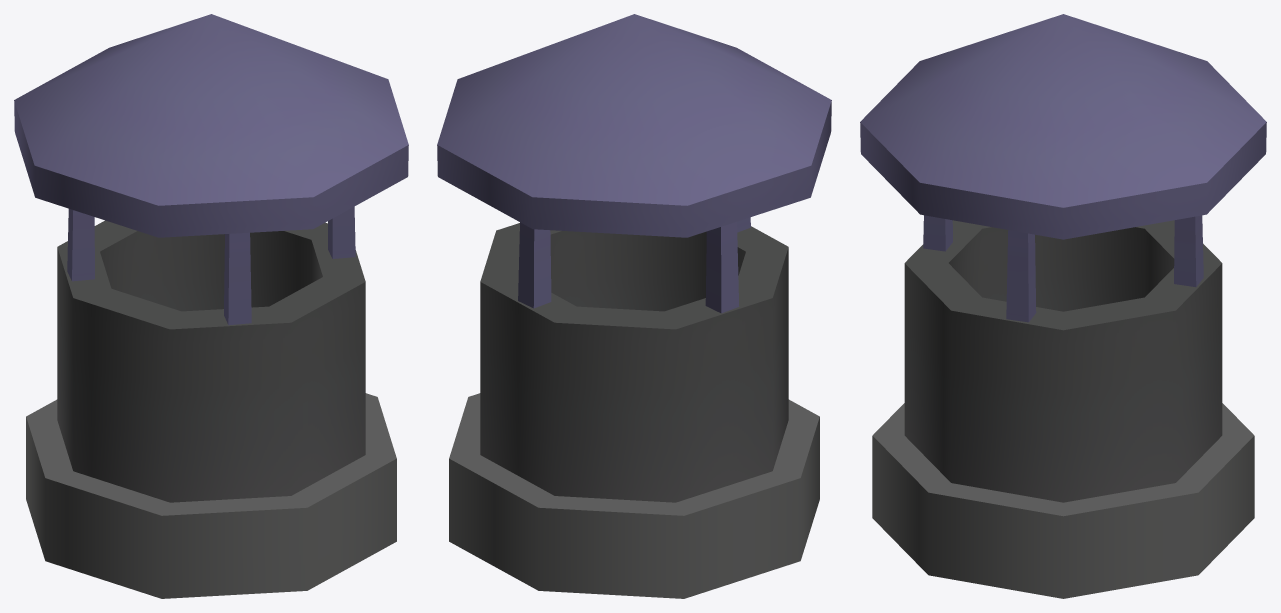
The model's file is Chimney_1_B_5.glb.
3 views of the same model, side by side, from view 1: azimuth 30°, elevation 25°; view 2: azimuth 150°, elevation 25°; view 3: azimuth 270°, elevation 25° (orthographic).
Visible parts, largest first — view 1: Chimney_1_B_5; view 2: Chimney_1_B_5; view 3: Chimney_1_B_5.
Boxes of the visible parts, <box> form: Chimney_1_B_5: <box>14,14,408,598</box>; Chimney_1_B_5: <box>437,14,831,598</box>; Chimney_1_B_5: <box>860,14,1266,598</box>.
Size of the model in its own units: 0.4917 by 0.6727 by 0.4917.
2 materials, 2 textured.
